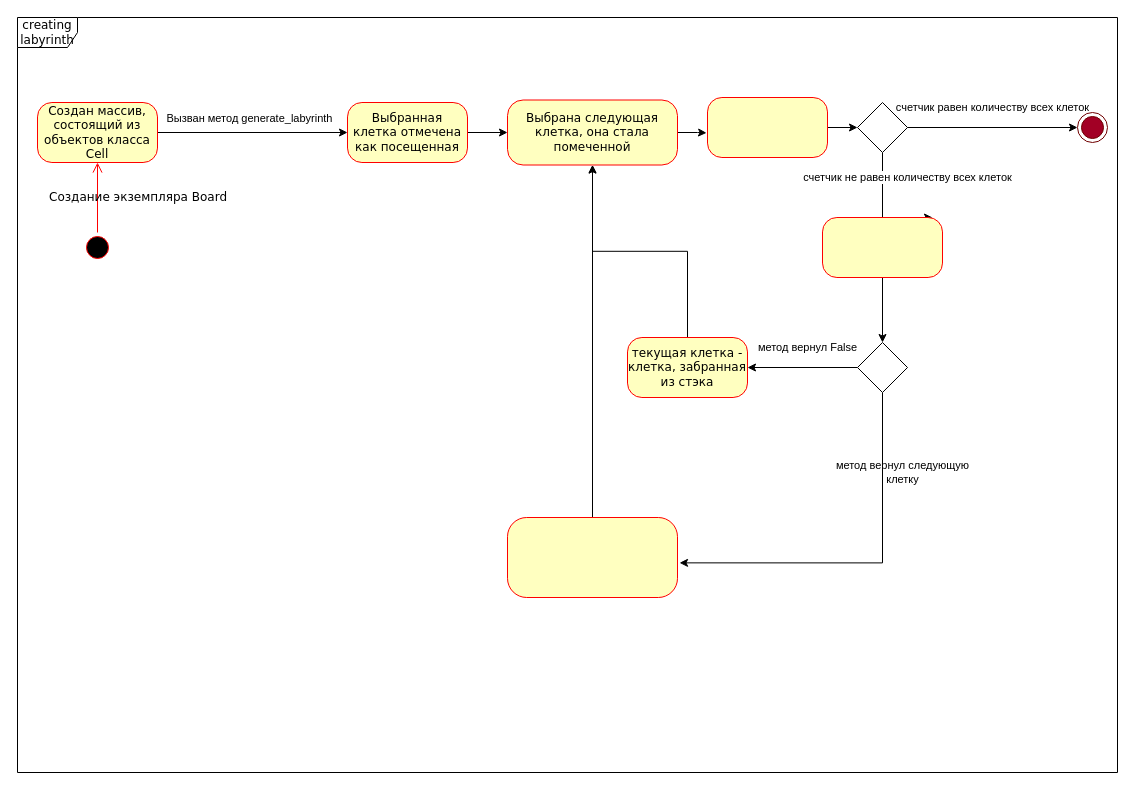
Image size: 1135x790. Some labels were removed from this diagram. The box of each missing label's shape, as (x1, y1, x2, y2) in pixels:
Вызван метод check_neighbors: (822, 216, 942, 278)
Текущая клетка помещена в стэк, следующая клетка теперь текущая: (506, 516, 678, 598)
Увеличен счетчик посещенных клеток cnt_visited: (706, 96, 828, 158)
